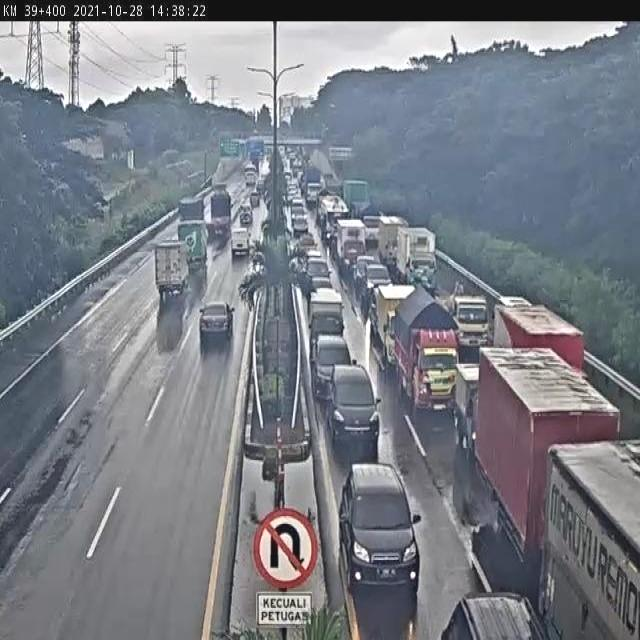Bus: (244, 164, 257, 188)
Car: (339, 461, 422, 600), (436, 590, 553, 638), (324, 363, 382, 452), (312, 333, 351, 403), (198, 300, 234, 347), (361, 264, 393, 314), (354, 255, 378, 296), (307, 274, 332, 301), (295, 231, 318, 257), (306, 255, 332, 277), (292, 214, 310, 238), (256, 177, 265, 196), (250, 190, 260, 207)
Truck: (474, 345, 626, 565), (539, 441, 638, 637), (389, 286, 461, 419), (493, 302, 583, 374), (374, 281, 418, 368), (454, 359, 489, 455), (395, 224, 439, 295), (449, 292, 490, 360), (153, 239, 190, 302), (307, 288, 343, 345), (334, 218, 368, 276), (376, 214, 411, 265), (177, 220, 207, 278), (317, 194, 349, 244), (208, 190, 232, 246), (358, 198, 383, 247), (342, 178, 371, 214), (304, 166, 322, 205), (179, 196, 203, 223)
Van: (231, 227, 251, 257), (239, 202, 252, 225)
